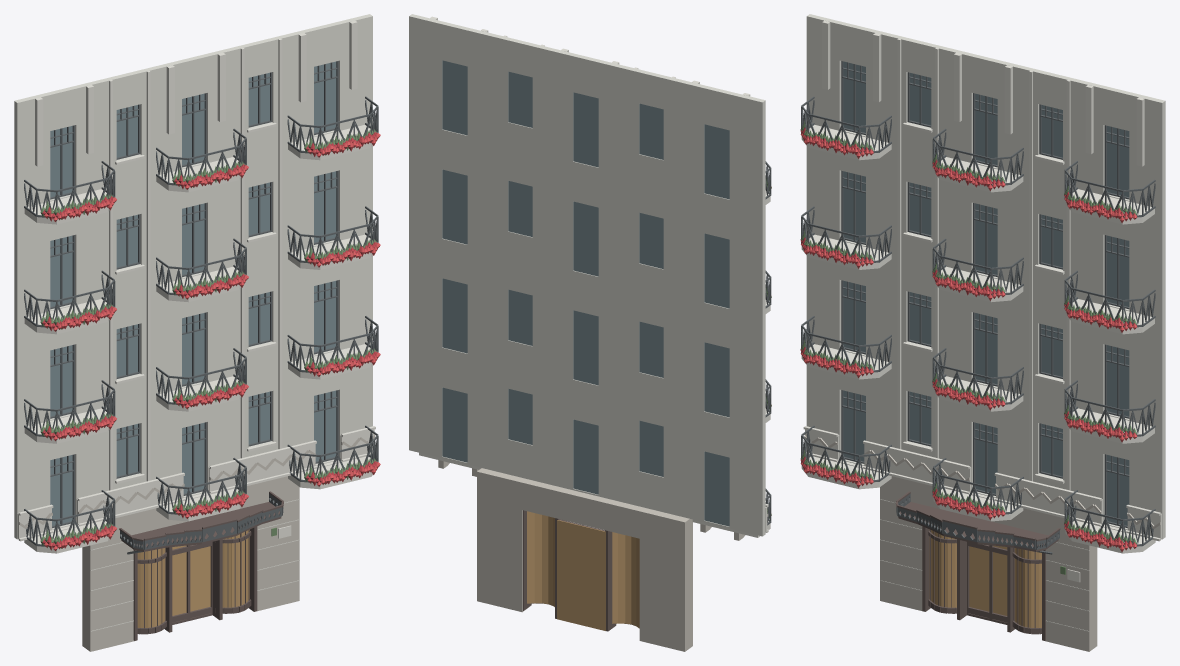
File: huangpu-yangtze-hotel-hankou-balconies-raw.glb
3 views of the same model, side by side, from view 1: azimuth 30°, elevation 25°; view 2: azimuth 150°, elevation 25°; view 3: azimuth 330°, elevation 25° (orthographic).
Parts seen in each view (by area): view 1: 扬子饭店汉口路主门与三列花台; view 2: 扬子饭店汉口路主门与三列花台; view 3: 扬子饭店汉口路主门与三列花台.
Part boxes in pixels (box(x1,y1,x2,y2)): 扬子饭店汉口路主门与三列花台: box(14, 14, 380, 651); 扬子饭店汉口路主门与三列花台: box(409, 14, 771, 651); 扬子饭店汉口路主门与三列花台: box(800, 14, 1165, 651).
Bounding box in the file's own units: 12.85 × 19.57 × 2.08.
